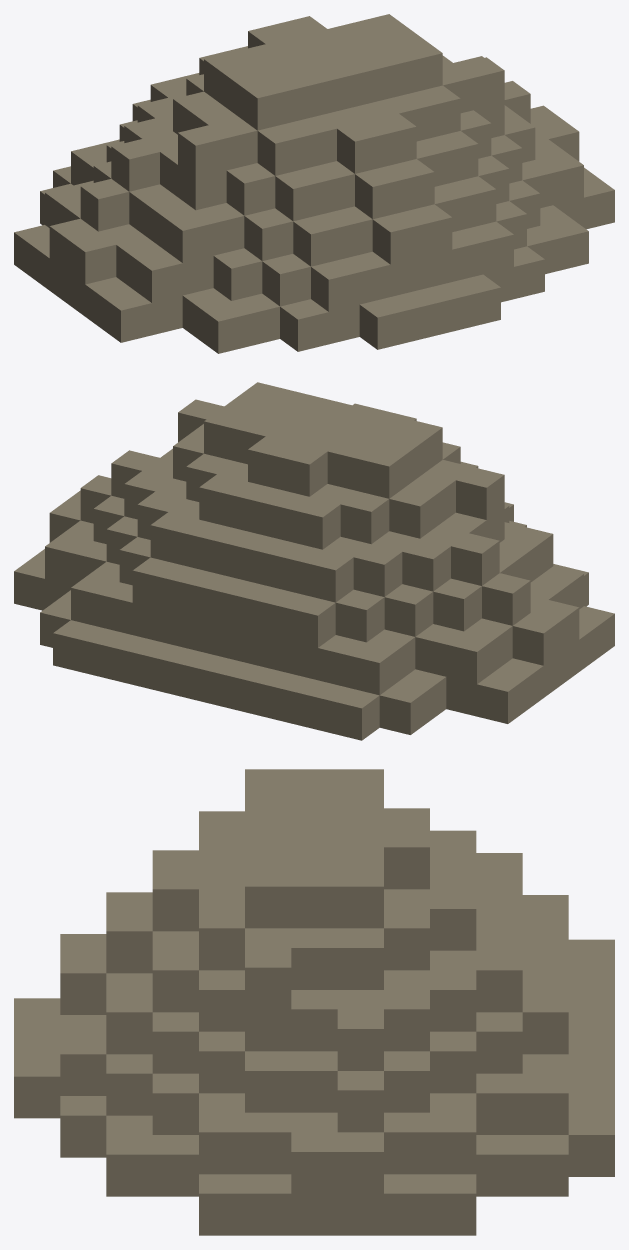
Rendered from s3.vox.obj.
3 views of the same model, one above another, from view 1: azimuth 30°, elevation 25°; view 2: azimuth 150°, elevation 25°; view 3: azimuth 270°, elevation 25° (orthographic). The views are drawn at different scales.
Bounding box in the file's own units: 1.6 × 0.6 × 1.3.
1 material, 1 textured.
